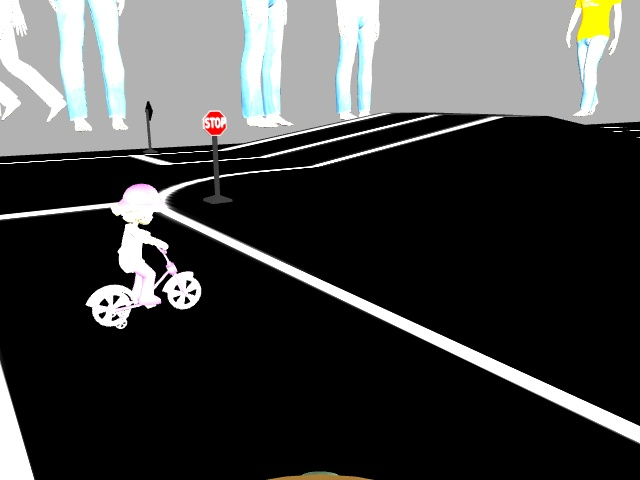Pedestrian: (87, 181, 209, 330)
Stop: (199, 109, 228, 135)
